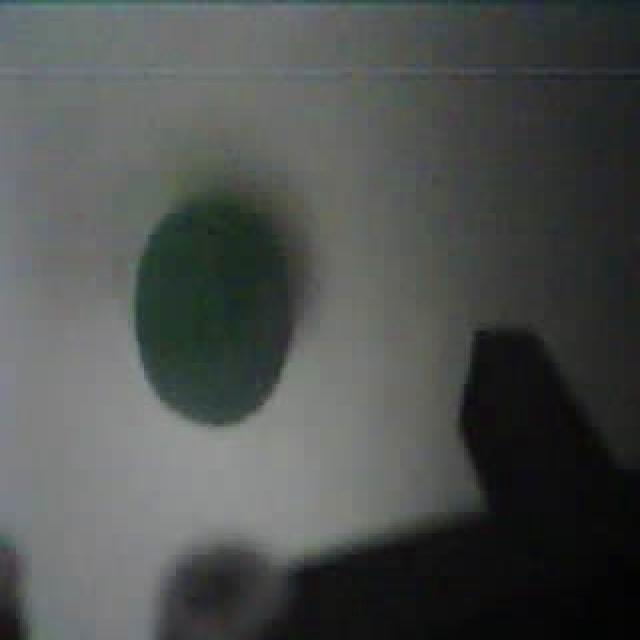green_ball: (128, 182, 298, 430)
